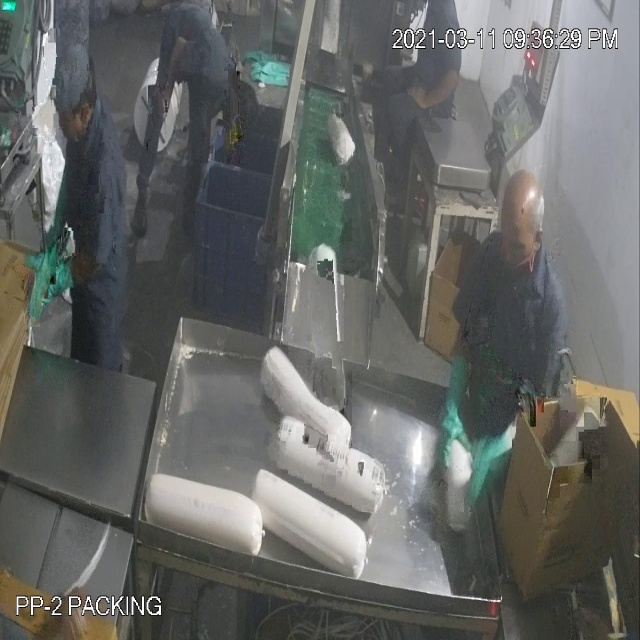Sin_guantes: (409, 55, 462, 126)
